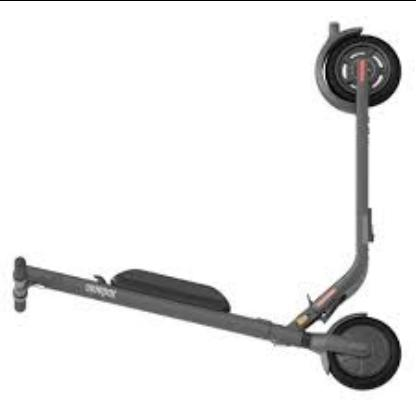bike: (0, 10, 403, 393)
